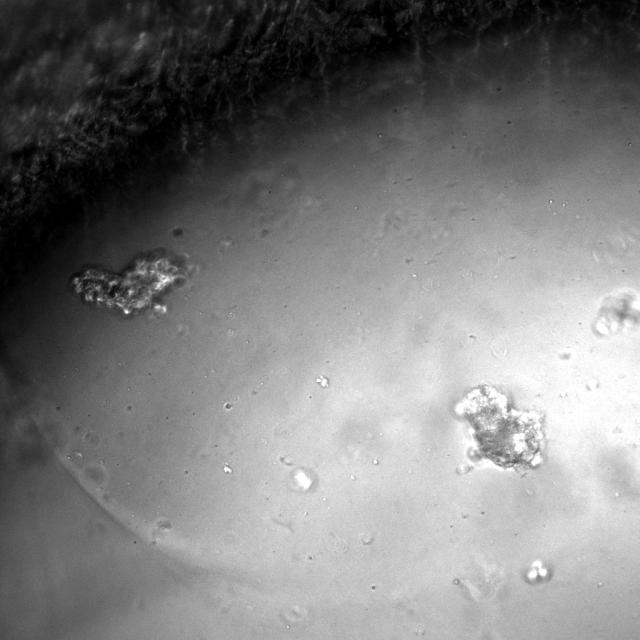organoid: (69, 249, 190, 315), (456, 384, 544, 473), (594, 290, 639, 334), (522, 559, 553, 584), (316, 375, 328, 388)
